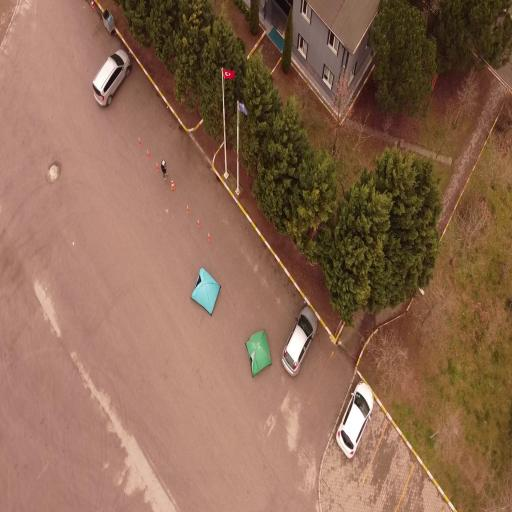tent: (188, 261, 222, 320), (244, 324, 273, 375)
